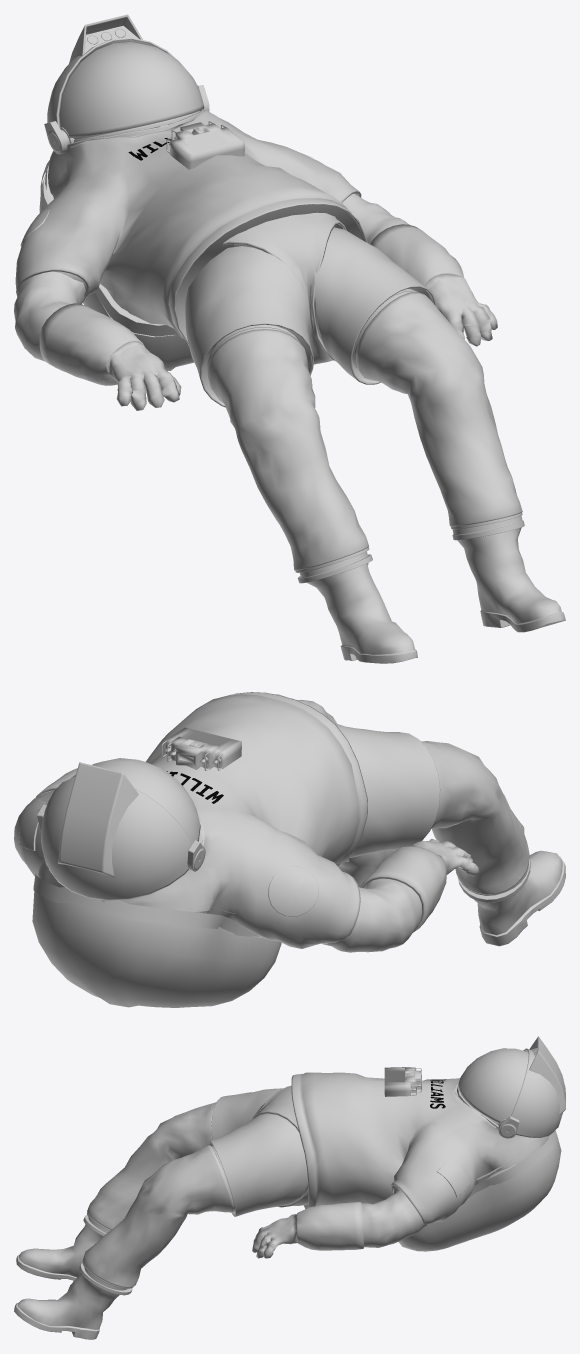
Rendered from Williams_Body.fbx.
3 renders of one model, top to bottom at view 1: azimuth 30°, elevation 25°; view 2: azimuth 150°, elevation 25°; view 3: azimuth 270°, elevation 25°, orthographic. The views are drawn at different scales.
Parts seen in each view (by area): view 1: Williams_Body; view 2: Williams_Body; view 3: Williams_Body.
Boxes of the visible parts, x1=… form: Williams_Body: x1=14, y1=14, x2=565, y2=663; Williams_Body: x1=14, y1=692, x2=565, y2=1007; Williams_Body: x1=14, y1=1036, x2=565, y2=1339.
Bounding box in the file's own units: 1.07 × 1.02 × 1.89.
